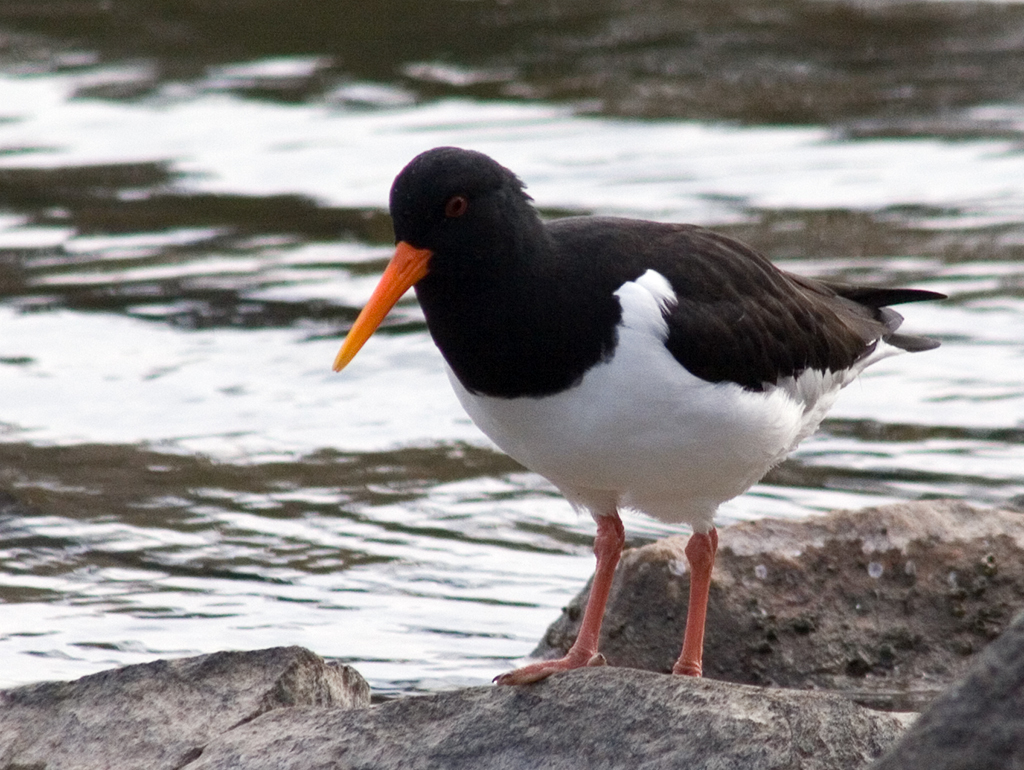face: (460, 167, 543, 250)
